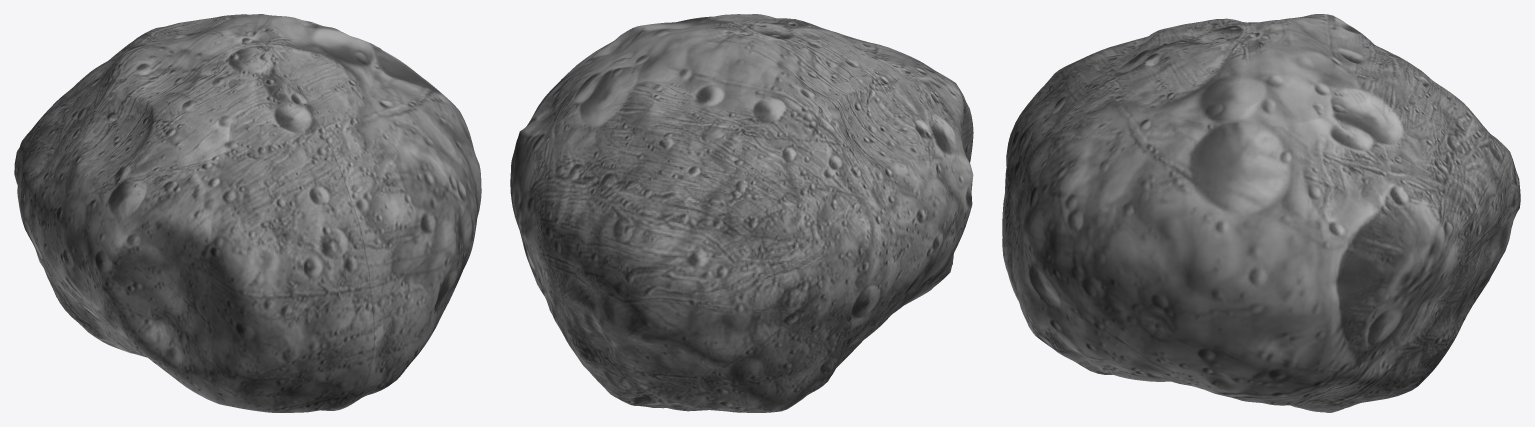
Rendered from phobos.glb.
3 views of the same model, side by side, from view 1: azimuth 30°, elevation 25°; view 2: azimuth 150°, elevation 25°; view 3: azimuth 270°, elevation 25° (orthographic). The views are drawn at different scales.
Visible parts, largest first — view 1: m1phobos_21_MLfix; view 2: m1phobos_21_MLfix; view 3: m1phobos_21_MLfix.
Boxes of the visible parts, x1,y1,x2,y2 form: m1phobos_21_MLfix: (14, 14, 481, 412); m1phobos_21_MLfix: (510, 14, 973, 412); m1phobos_21_MLfix: (1002, 14, 1520, 412).
Size of the model in its own units: 23.37 by 19.4 by 26.04.
Materials: 1 (1 with a texture image).
